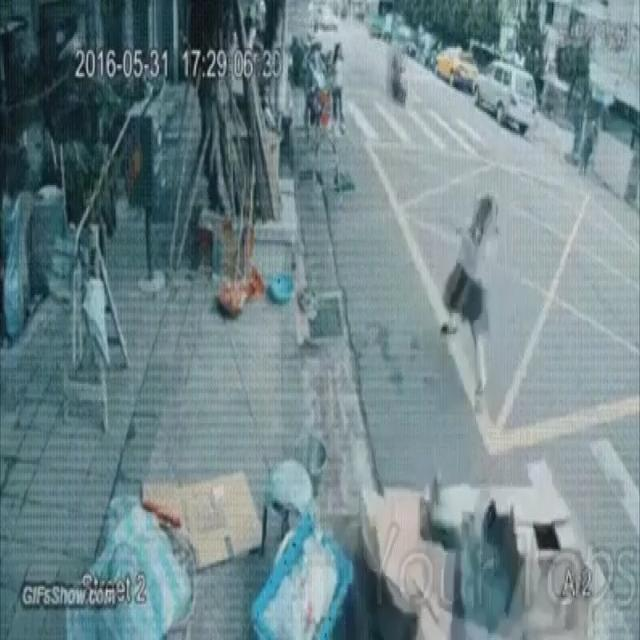fight: (442, 186, 498, 423)
